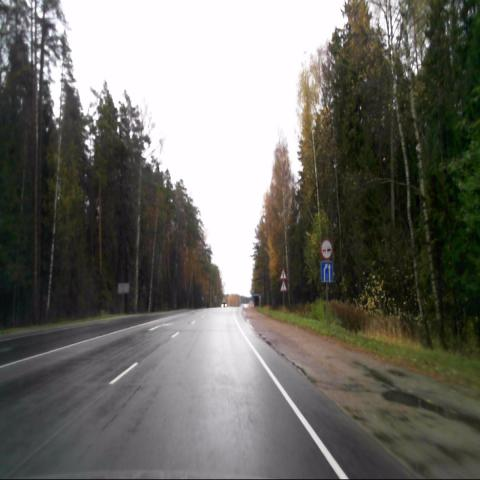3_20: (320, 240, 333, 260)
